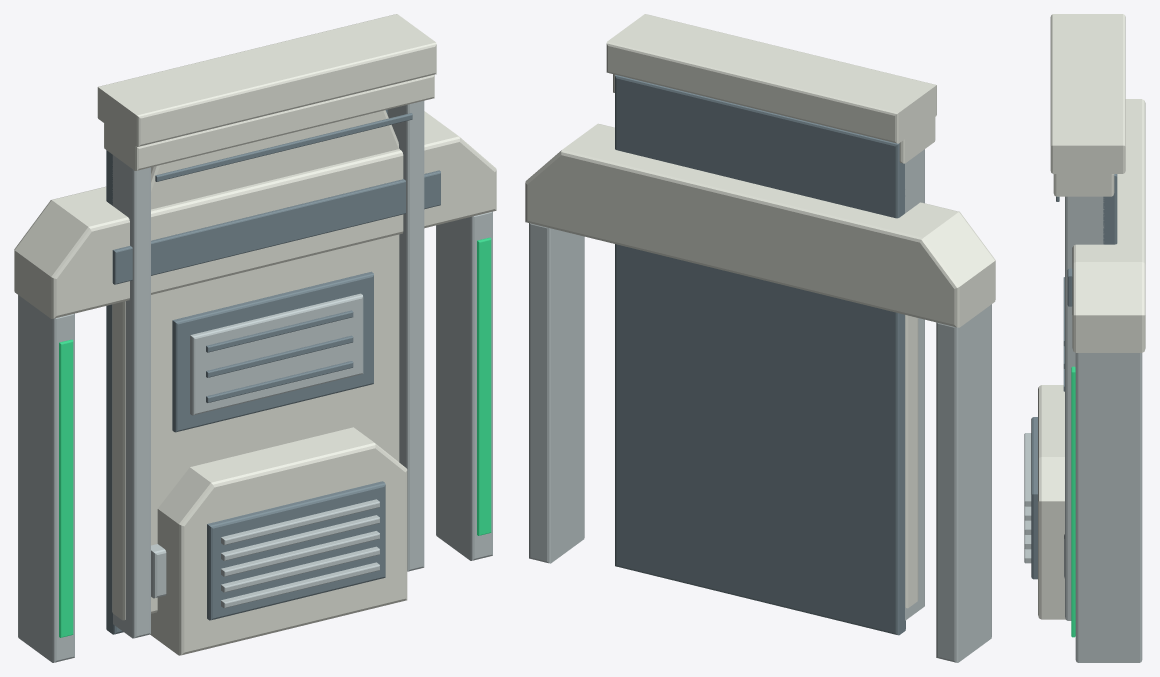
File: genesis-exterior.glb
3 views of the same model, side by side, from view 1: azimuth 30°, elevation 25°; view 2: azimuth 150°, elevation 25°; view 3: azimuth 270°, elevation 25° (orthographic). The views are drawn at different scales.
Parts seen in each view (by area): view 1: exterior-facade__composite, exterior-facade__titanium, entrance-crown__titanium, entrance-crown__composite, external-service__composite, exterior-facade__graphite, external-service__graphite, entrance-crown__graphite, entrance-crown__reflection, external-service__titanium; view 2: exterior-facade__graphite, entrance-crown__composite, entrance-crown__titanium, exterior-facade__composite, exterior-facade__titanium; view 3: entrance-crown__titanium, exterior-facade__composite, entrance-crown__composite, external-service__composite, exterior-facade__titanium, entrance-crown__reflection, external-service__graphite, exterior-facade__graphite, external-service__titanium, entrance-crown__graphite.
Boxes of the visible parts, box(x1,y1,x2,y2) form: exterior-facade__composite: box(97, 14, 436, 620); exterior-facade__titanium: box(112, 101, 424, 638); entrance-crown__titanium: box(18, 211, 492, 662); entrance-crown__composite: box(14, 111, 496, 318); external-service__composite: box(150, 427, 407, 655); exterior-facade__graphite: box(106, 109, 412, 634); external-service__graphite: box(207, 481, 385, 620); entrance-crown__graphite: box(112, 170, 440, 284); entrance-crown__reflection: box(59, 237, 491, 637); external-service__titanium: box(221, 499, 379, 608); exterior-facade__graphite: box(615, 75, 905, 635); entrance-crown__composite: box(525, 123, 995, 327); entrance-crown__titanium: box(529, 223, 991, 662); exterior-facade__composite: box(606, 14, 936, 608); exterior-facade__titanium: box(905, 149, 924, 620); entrance-crown__titanium: box(1075, 353, 1142, 662); exterior-facade__composite: box(1050, 14, 1125, 196); entrance-crown__composite: box(1072, 99, 1145, 352); external-service__composite: box(1038, 385, 1065, 619); exterior-facade__titanium: box(1064, 196, 1104, 620); entrance-crown__reflection: box(1071, 366, 1075, 637); external-service__graphite: box(1031, 417, 1037, 579); exterior-facade__graphite: box(1056, 174, 1117, 391); external-service__titanium: box(1024, 433, 1031, 563); entrance-crown__graphite: box(1067, 268, 1072, 306).
Size of the model in its own units: 4.43 by 5.17 by 1.16.
